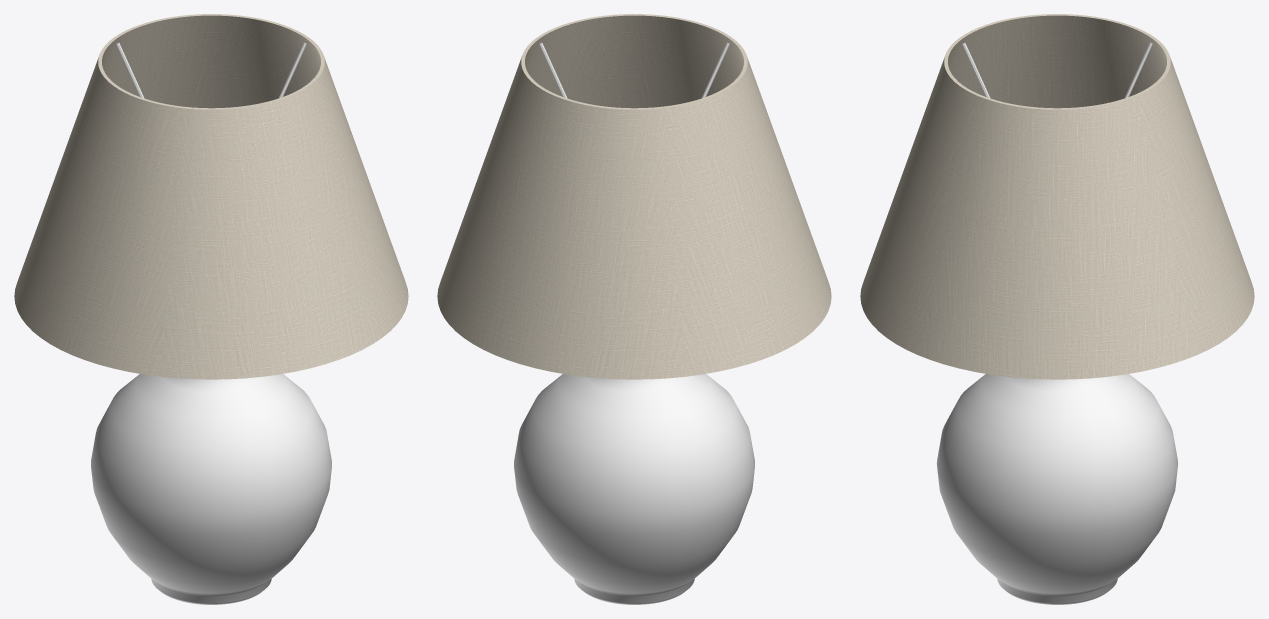
The model's file is recrEJ2qFnjSdKiZV.glb.
3 renders of one model, left to right at view 1: azimuth 30°, elevation 25°; view 2: azimuth 150°, elevation 25°; view 3: azimuth 270°, elevation 25°, orthographic.
Visible parts, largest first — view 1: Lampe_Buffet_Corps; view 2: Lampe_Buffet_Corps; view 3: Lampe_Buffet_Corps.
Part boxes in pixels (x1,y1,x2,y2): Lampe_Buffet_Corps: [14, 14, 408, 604]; Lampe_Buffet_Corps: [437, 14, 831, 604]; Lampe_Buffet_Corps: [860, 14, 1254, 604].
Bounding box in the file's own units: 0.32 × 0.465 × 0.32.
Materials: 3 (1 with a texture image).
